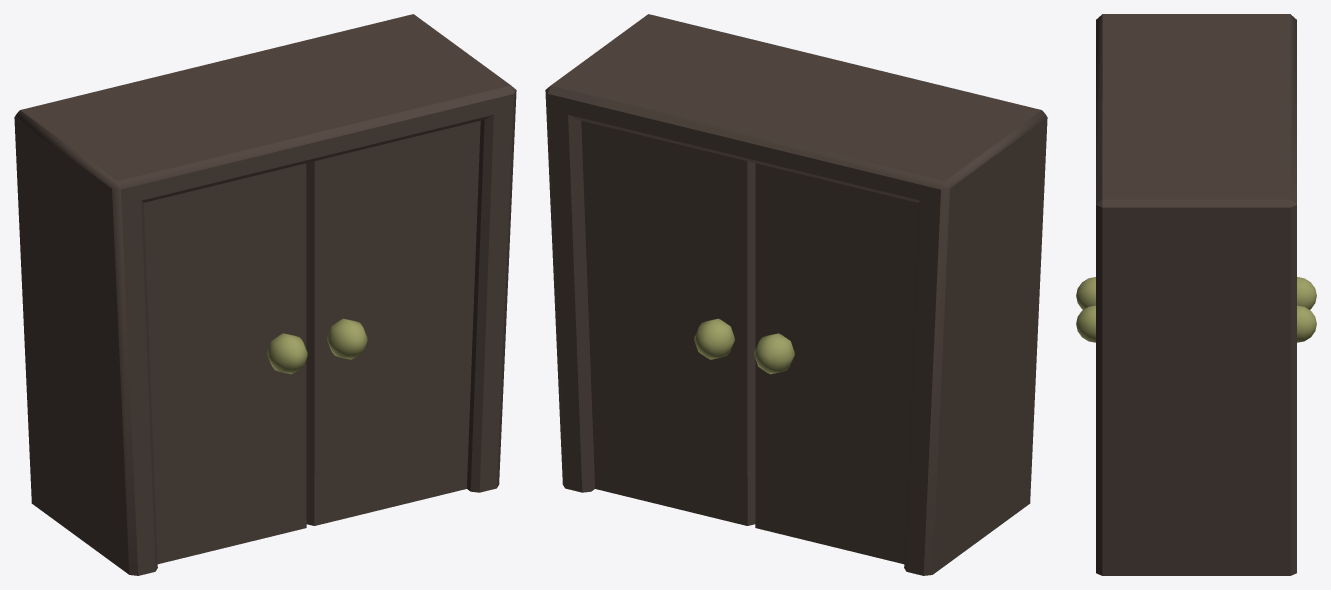
File: MainDoor_V1.fbx
3 renders of one model, left to right at view 1: azimuth 30°, elevation 25°; view 2: azimuth 150°, elevation 25°; view 3: azimuth 270°, elevation 25°, orthographic. The views are drawn at different scales.
Parts seen in each view (by area): view 1: MainDoor_low; view 2: MainDoor_low; view 3: MainDoor_low.
Part boxes in pixels (box(x1,y1,x2,y2)): MainDoor_low: box(14, 14, 516, 575); MainDoor_low: box(545, 14, 1047, 575); MainDoor_low: box(1076, 14, 1316, 575).
Size of the model in its own units: 3.85 by 3.6 by 2.06.
